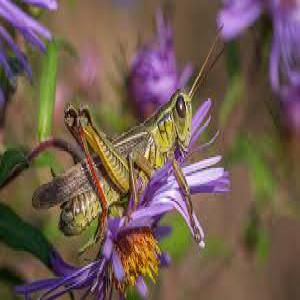locust: (40, 33, 216, 253)
